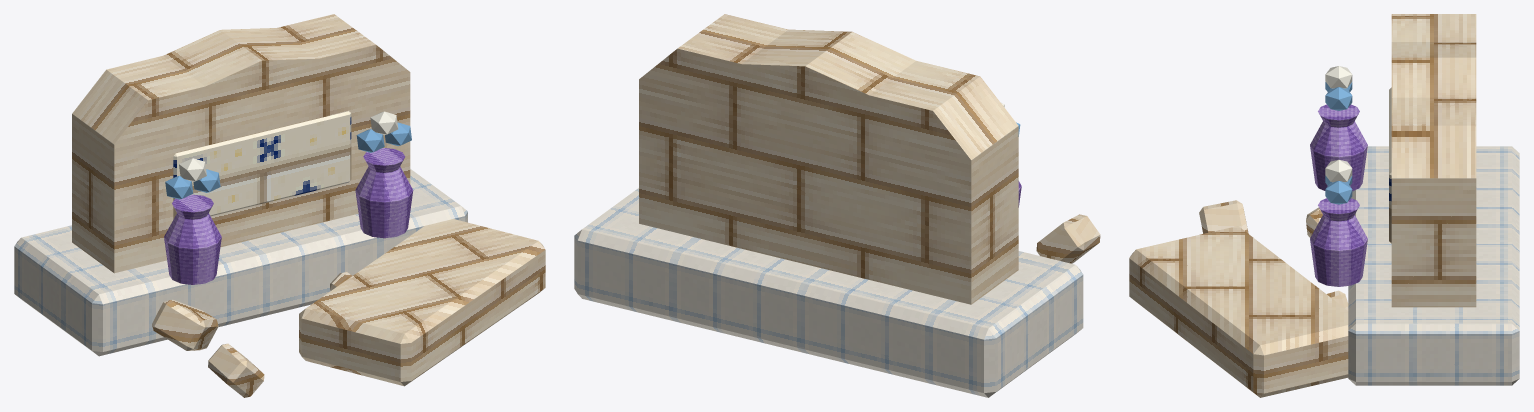
File: tower_grave_c.glb
The picture shows the model from 3 angles, left to right: view 1: azimuth 30°, elevation 25°; view 2: azimuth 150°, elevation 25°; view 3: azimuth 270°, elevation 25°; orthographic projection. The views are drawn at different scales.
Parts seen in each view (by area): view 1: Column, Stub; view 2: Column, Stub; view 3: Column, Stub.
Part boxes in pixels (bbox=[...]): Column: bbox=[14, 14, 467, 356]; Stub: bbox=[152, 219, 545, 397]; Column: bbox=[574, 14, 1083, 397]; Stub: bbox=[1036, 214, 1100, 263]; Column: bbox=[1310, 14, 1519, 385]; Stub: bbox=[1129, 200, 1348, 397].
Bounding box in the file's own units: 1.78 × 1.04 × 1.48.
6 materials, 4 textured.
